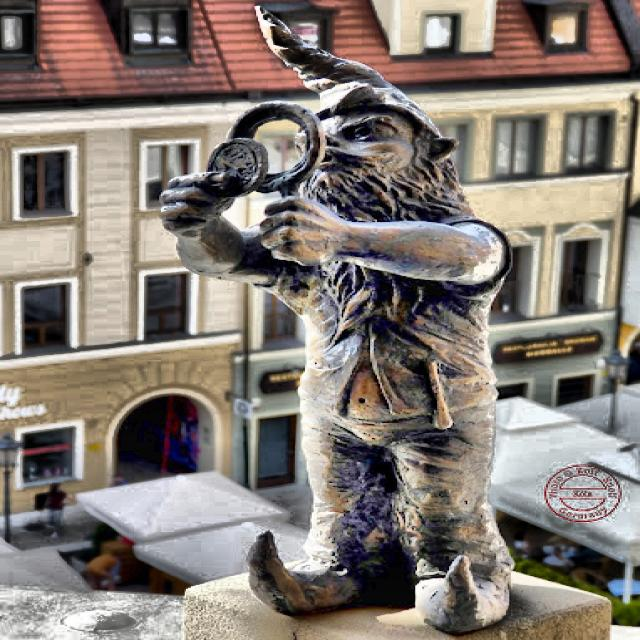Kolekcjoner: (162, 7, 512, 633)
